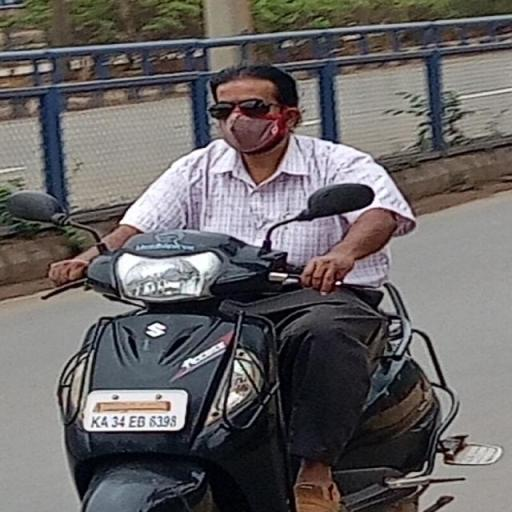bike: (13, 62, 511, 512)
numberplate: (86, 392, 185, 430)
withouthelmet: (212, 66, 298, 152)
